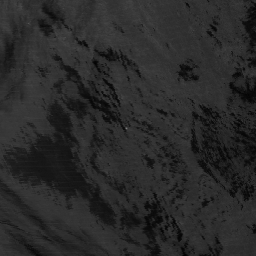Target: (124, 125, 129, 131)
